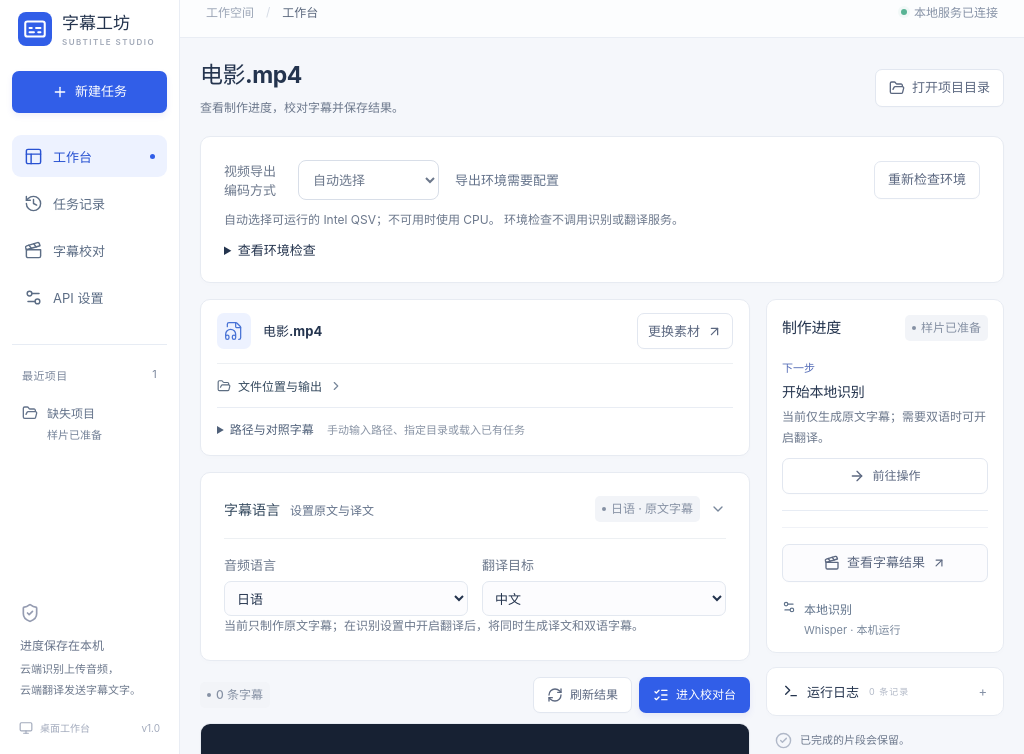
Test: 桌面工作台的真实操作边界 › keeps the existing project and its pending poll when project selection fails
Click the button with aria-label "载入任务 缺失项目": (90, 423) top-left (12, 393), bottom-right (167, 453)
(page scrolled)
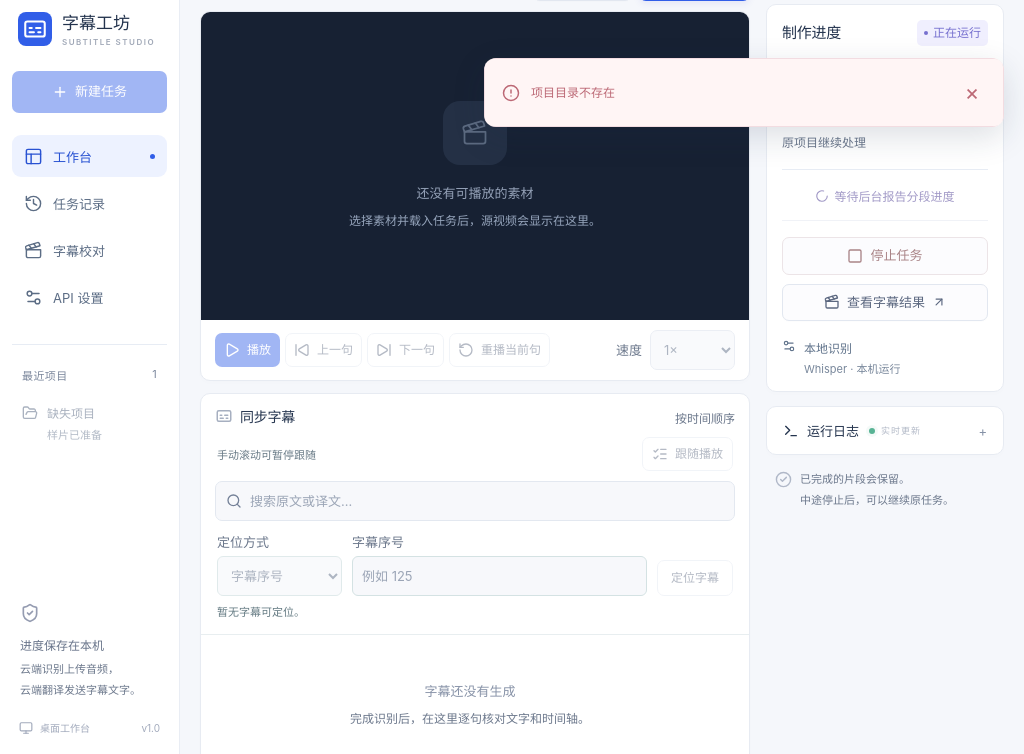
Result: the message shows "项目目录不存在" at top-left (531, 84), bottom-right (615, 100)
Result: the text "原项目继续处理" is shown at top-left (782, 134), bottom-right (866, 149)
